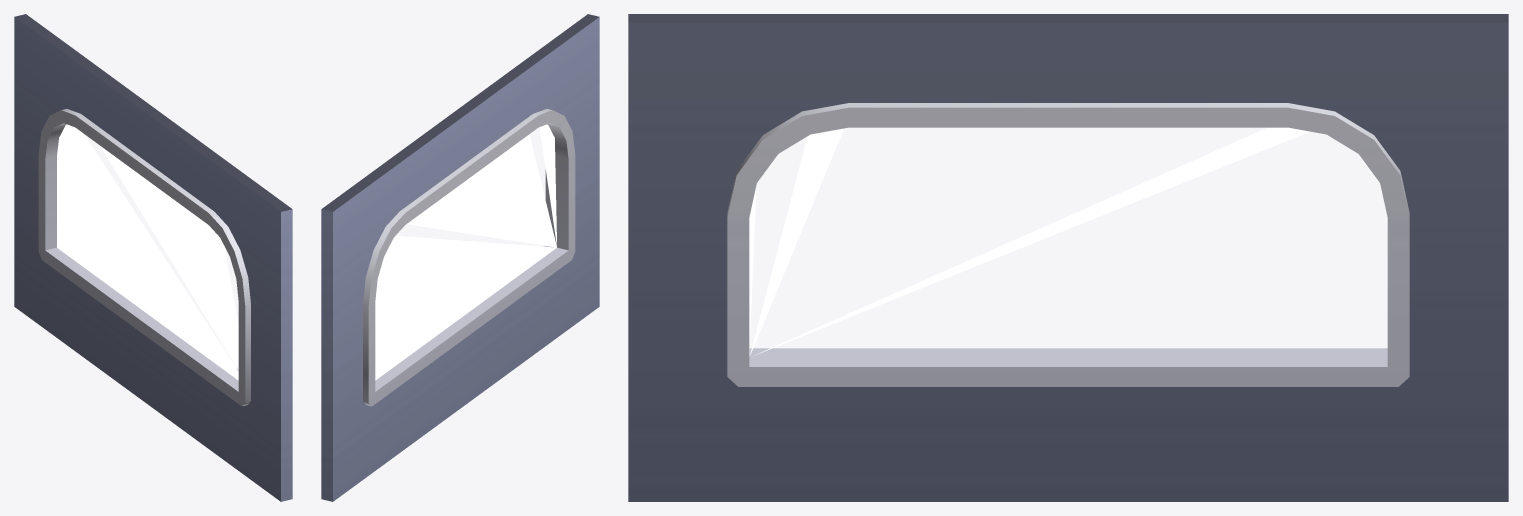
Rendered from Wall Window Wide Rou.glb.
The picture shows the model from 3 angles, left to right: view 1: azimuth 30°, elevation 25°; view 2: azimuth 150°, elevation 25°; view 3: azimuth 270°, elevation 25°; orthographic projection. The views are drawn at different scales.
Parts seen in each view (by area): view 1: wall-window-wide-round, (%ignore); view 2: wall-window-wide-round, (%ignore); view 3: wall-window-wide-round, (%ignore).
Boxes of the visible parts, <box> form: wall-window-wide-round: <box>14,14,292,501</box>; (%ignore): <box>57,124,238,380</box>; wall-window-wide-round: <box>321,14,599,501</box>; (%ignore): <box>375,124,556,380</box>; wall-window-wide-round: <box>628,14,1508,501</box>; (%ignore): <box>749,127,1309,356</box>.
Bounding box in the file's own units: 0.2 × 2.4 × 4.
2 materials, 1 textured.
